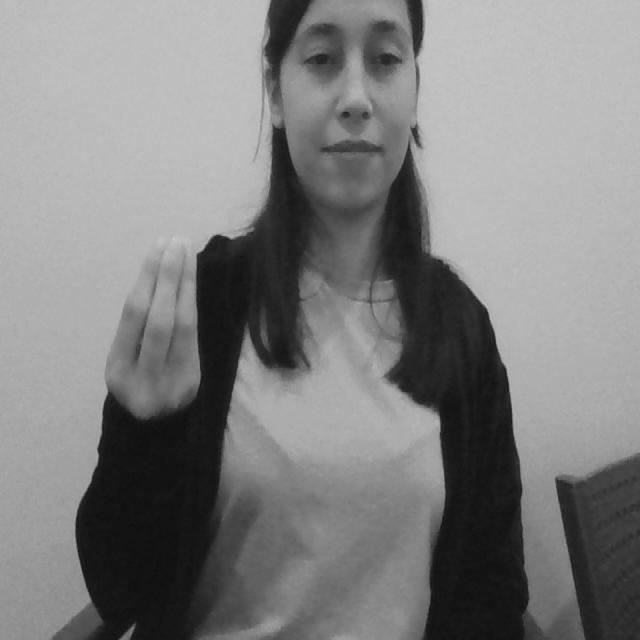iyi: (103, 222, 212, 435)
